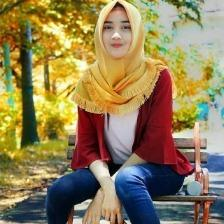Non Syar-i: (71, 0, 168, 116)
